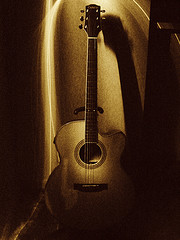guitar: (41, 3, 138, 233)
